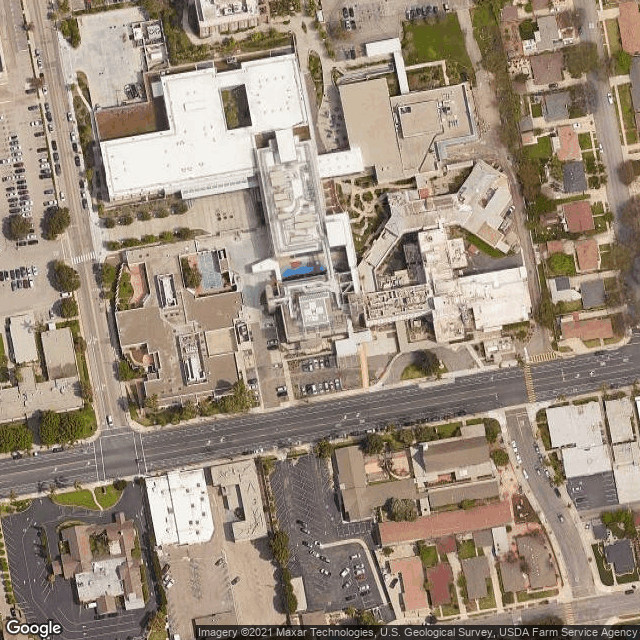Helipad: (299, 293, 328, 325)
